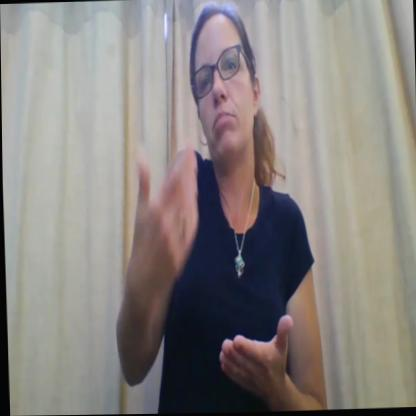Expensive: (130, 138, 291, 415)
